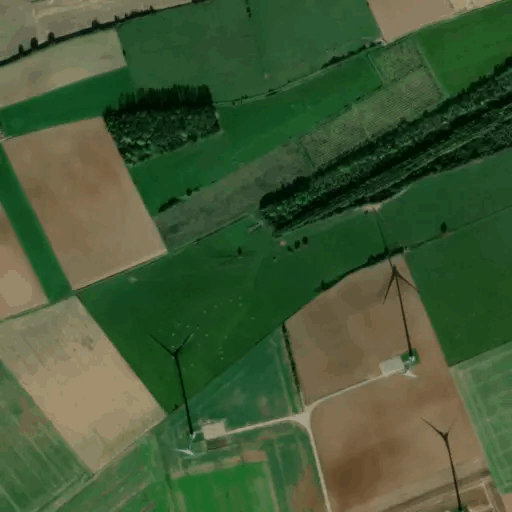wt: (375, 217, 426, 383), (145, 328, 207, 460), (419, 413, 473, 512)
